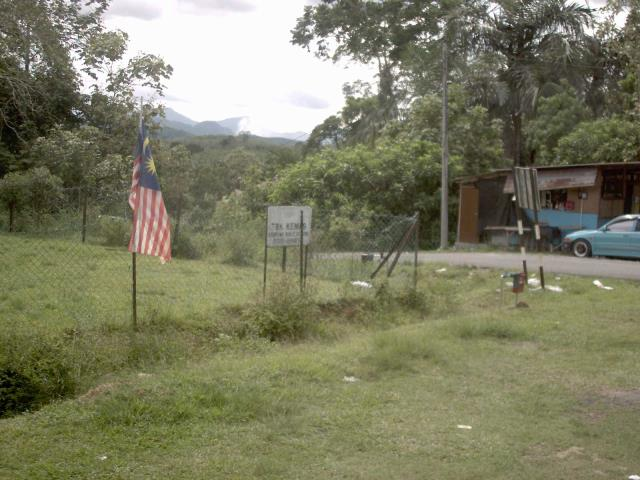ads_sign: (260, 200, 314, 256)
